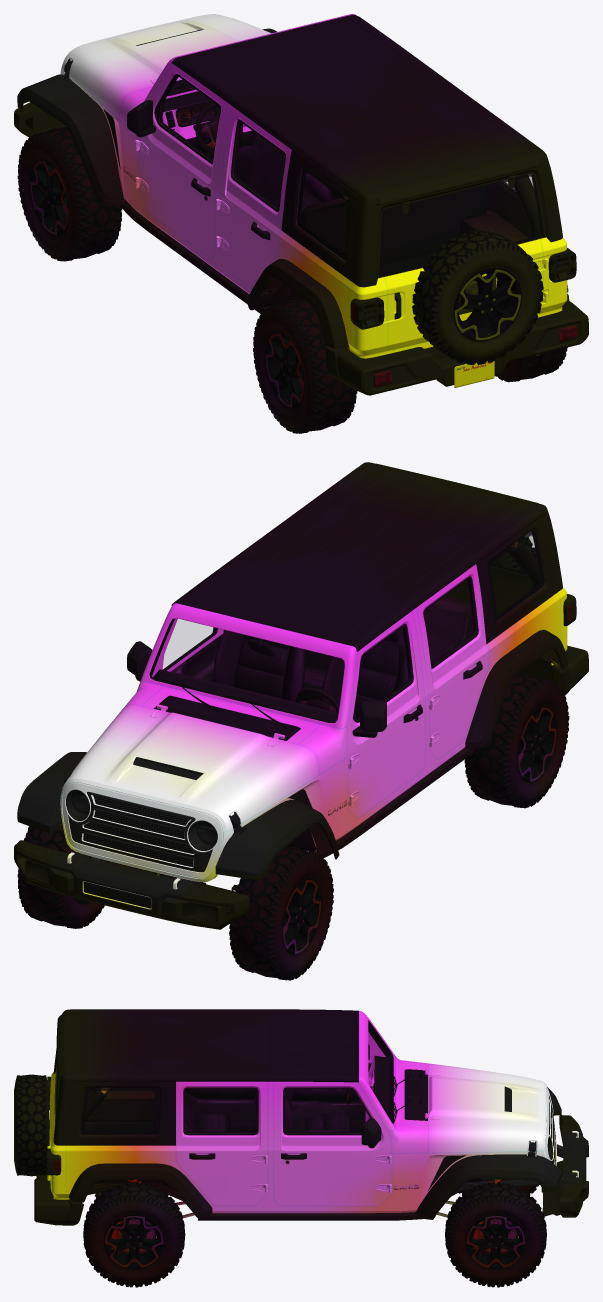
File: terminus.glb
3 views of the same model, one above another, from view 1: azimuth 30°, elevation 25°; view 2: azimuth 150°, elevation 25°; view 3: azimuth 270°, elevation 25° (orthographic). The views are drawn at different scales.
Visible parts, largest first — view 1: extra_1, chassis, misc_l, bodyshell, door_dside_f, wheel_lr, wheel_lf, windscreen_r, bonnet, bumper_r, door_dside_r, wing_lf (+11 smaller); view 2: extra_1, bodyshell, bonnet, chassis, wheel_lf, misc_g, door_dside_f, wheel_lr, misc_m, door_dside_r, wing_lf, misc_a (+11 smaller); view 3: extra_1, bodyshell, door_pside_f, bonnet, chassis, wheel_rf, wheel_rr, door_pside_r, wing_rf, misc_e, misc_l, window_rf (+11 smaller).
Boxes of the visible parts, x1,y1,x2,y2 form: extra_1: (171, 14, 562, 287); chassis: (64, 63, 576, 329); misc_l: (412, 230, 543, 364); bodyshell: (60, 14, 576, 358); door_dside_f: (127, 64, 228, 257); wheel_lr: (253, 298, 357, 433); wheel_lf: (17, 127, 122, 261); windscreen_r: (379, 174, 544, 277); bonnet: (62, 14, 271, 119); bumper_r: (346, 306, 588, 395); door_dside_r: (216, 106, 291, 288); wing_lf: (17, 74, 124, 204); extra_1: (171, 462, 562, 651); bodyshell: (60, 587, 576, 881); bonnet: (61, 704, 319, 832); chassis: (64, 540, 571, 883); wheel_lf: (229, 846, 333, 980); misc_g: (62, 782, 222, 878); door_dside_f: (346, 610, 425, 818); wheel_lr: (464, 672, 569, 808); misc_m: (25, 849, 226, 925); door_dside_r: (416, 564, 488, 759); wing_lf: (215, 799, 339, 879); misc_a: (465, 630, 568, 748); extra_1: (53, 1009, 358, 1145); bodyshell: (47, 1011, 556, 1213); door_pside_f: (273, 1081, 391, 1205); bonnet: (425, 1063, 546, 1152); chassis: (47, 1020, 563, 1217); wheel_rf: (445, 1182, 546, 1287); wheel_rr: (83, 1182, 185, 1287); door_pside_r: (176, 1081, 267, 1205); wing_rf: (415, 1154, 561, 1219); misc_e: (80, 1087, 159, 1134); misc_l: (14, 1074, 49, 1176); window_rf: (285, 1089, 368, 1131).
Size of the model in its own units: 1.93 by 1.84 by 4.83.
21 materials, 21 textured.
